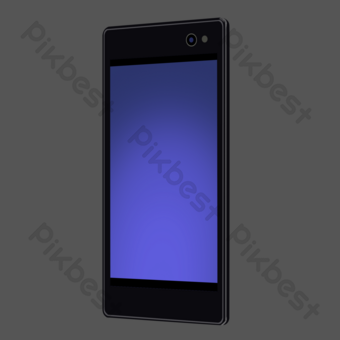phone: (97, 14, 235, 330)
